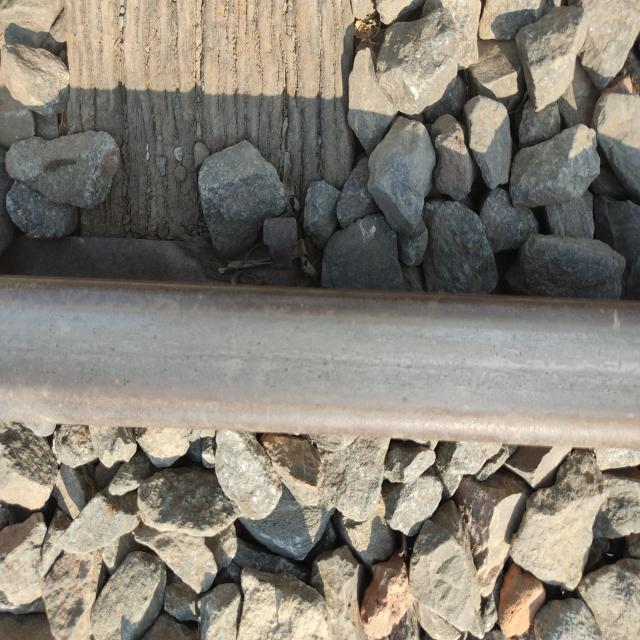non-defective: (118, 190, 540, 488)
